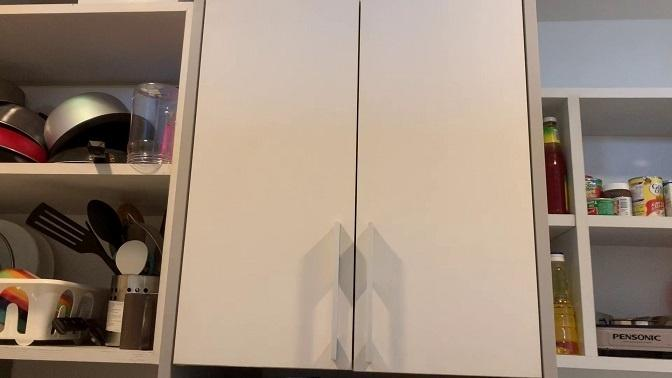cabinet_door: (360, 0, 528, 378), (199, 0, 359, 377)
handle: (359, 221, 382, 368), (329, 220, 350, 365)
